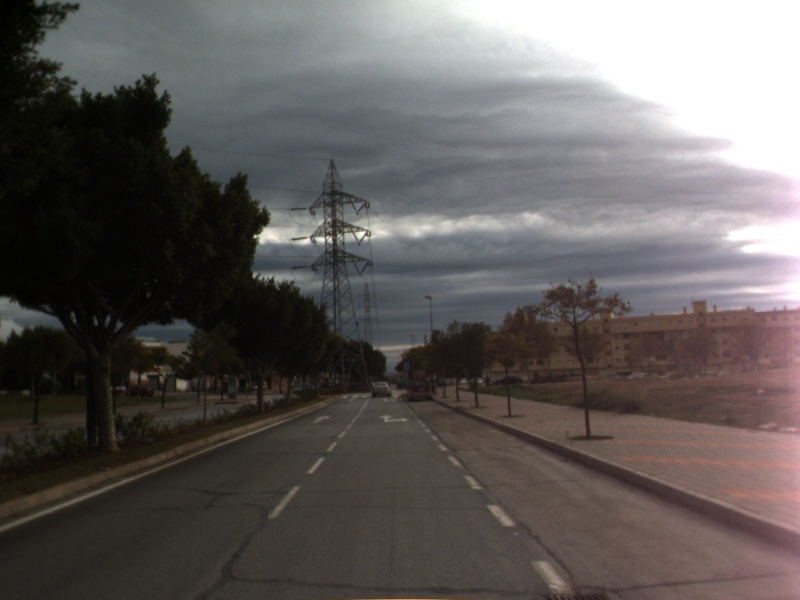STRAIGHT: (310, 413, 333, 425)
STRAIGHT_RIGHT: (377, 412, 412, 425)
